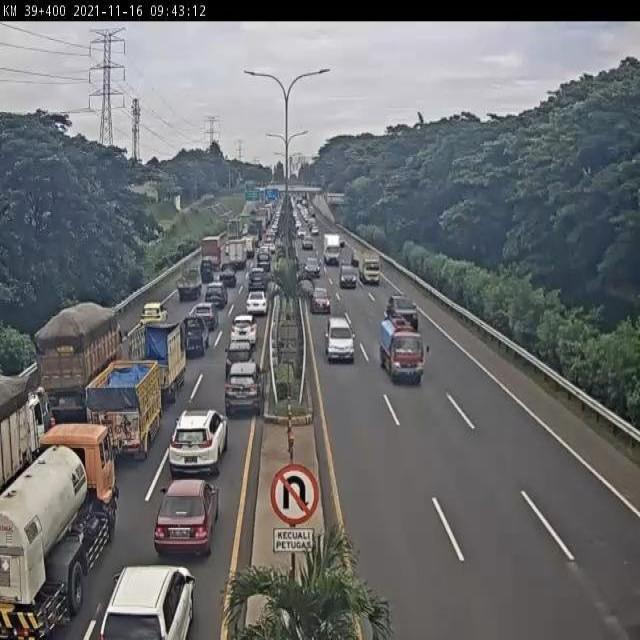Car: (97, 565, 200, 640), (156, 477, 221, 551), (168, 408, 230, 472), (223, 362, 263, 409), (322, 317, 356, 358), (387, 293, 418, 329), (140, 297, 170, 327), (232, 313, 260, 345), (310, 288, 330, 319), (248, 287, 270, 311), (341, 266, 358, 288)
Truck: (0, 426, 121, 640), (33, 298, 128, 411), (84, 352, 160, 465), (124, 321, 188, 396), (0, 386, 52, 478), (378, 316, 430, 381)
